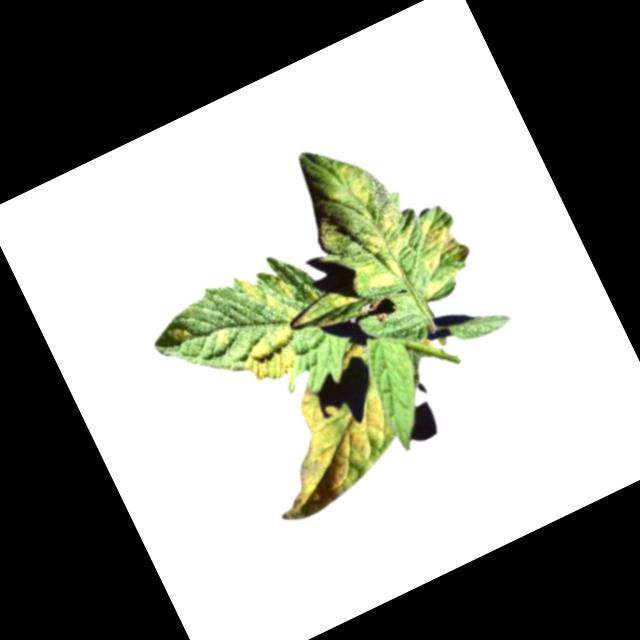Leaf_Mold: (235, 363, 412, 529), (326, 201, 429, 303), (396, 208, 481, 299), (237, 320, 313, 394), (318, 158, 376, 219), (233, 266, 280, 318), (171, 324, 194, 347)
